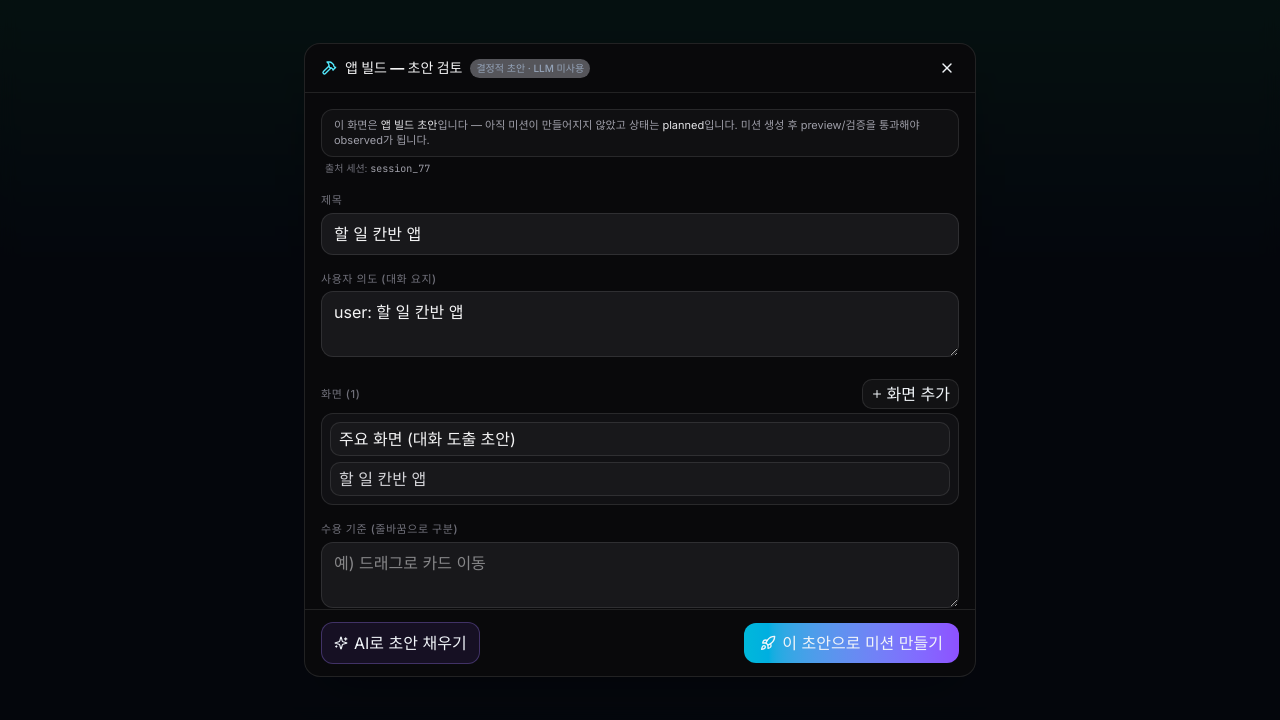
AppBuildContainer 상호작용 (jsdom) › 'AI로 초안 채우기' 성공 → AI 초안 배지(planned), 화면 갱신
This screenshot has width=1280, height=720.
Click the button "AI로 초안 채우기": (400, 643) [321,622,480,664]
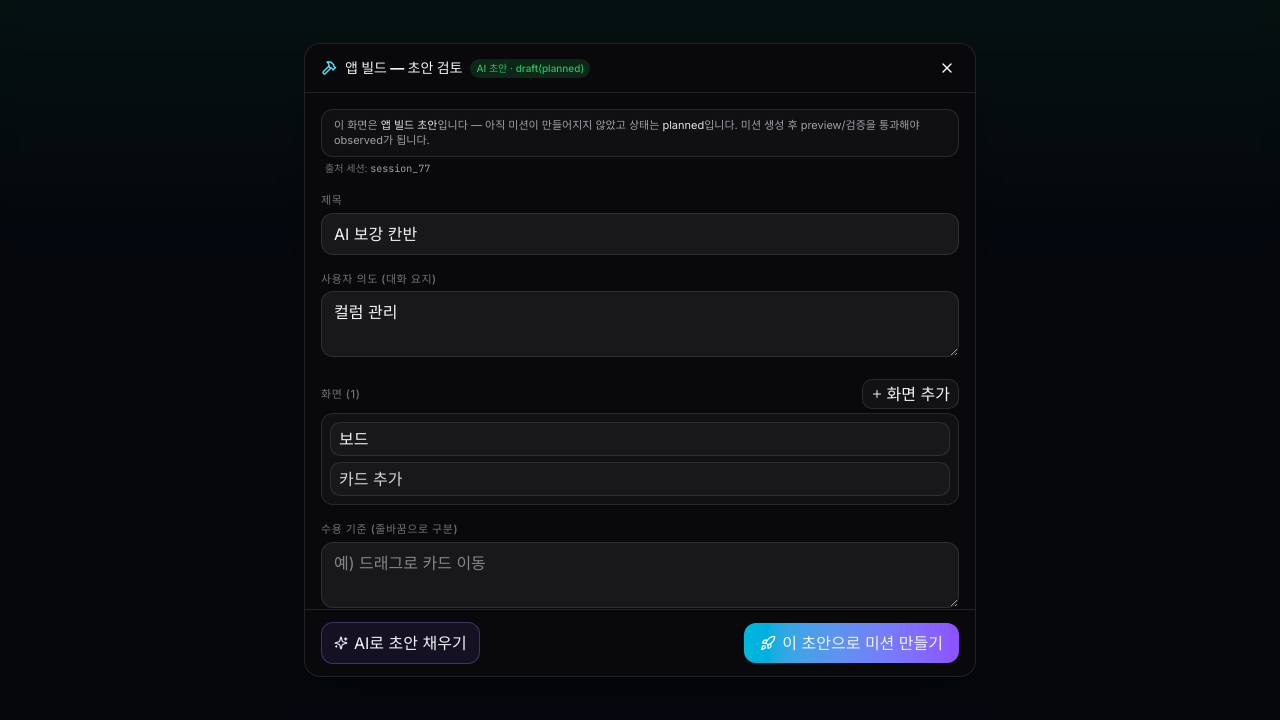
expect the text "AI 초안 · draft(planned)" is shown: met, box [470,59,590,78]
expect the field labelled "제목" holds "AI 보강 칸반": met, box [321,213,959,255]
